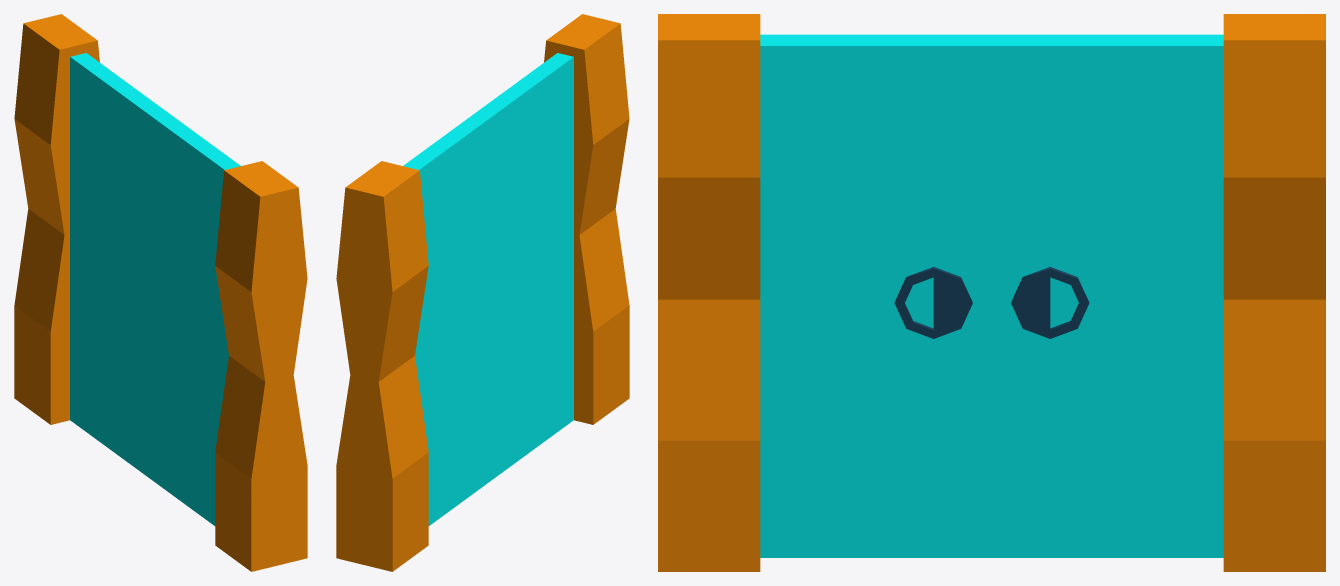
The model's file is Map2_Door_1.fbx.
3 views of the same model, side by side, from view 1: azimuth 30°, elevation 25°; view 2: azimuth 150°, elevation 25°; view 3: azimuth 270°, elevation 25° (orthographic). The views are drawn at different scales.
Parts seen in each view (by area): view 1: pillar, Door1, Door2; view 2: pillar, Door2, Door1; view 3: Door1, Door2, pillar.
Boxes of the visible parts, bbox=[...] form: pillar: bbox=[14, 14, 307, 571]; Door1: bbox=[70, 53, 167, 479]; Door2: bbox=[152, 113, 240, 525]; pillar: bbox=[336, 14, 629, 571]; Door2: bbox=[476, 53, 573, 479]; Door1: bbox=[403, 113, 491, 525]; Door1: bbox=[992, 34, 1223, 557]; Door2: bbox=[760, 34, 991, 557]; pillar: bbox=[658, 14, 1325, 571].
Bounding box in the file's own units: 104 × 660 × 760.
